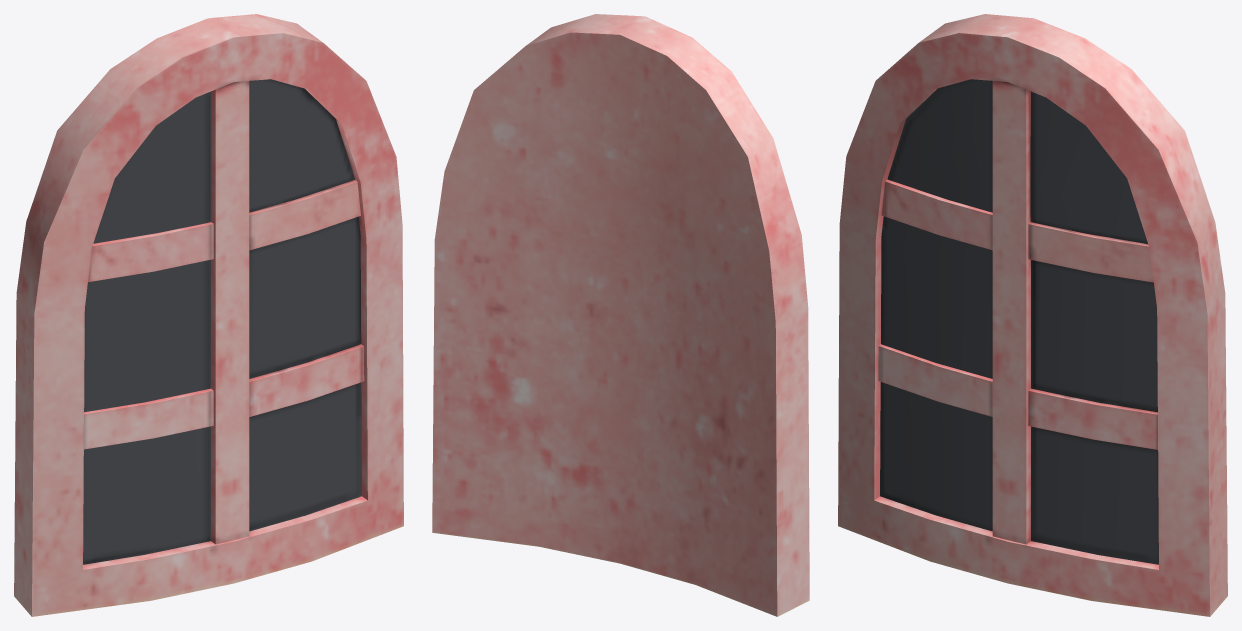
The model's file is sb_obj_outdoor024_PrincessCastle01_window01.fbx.
The picture shows the model from 3 angles, left to right: view 1: azimuth 30°, elevation 25°; view 2: azimuth 150°, elevation 25°; view 3: azimuth 330°, elevation 25°; orthographic projection. The views are drawn at different scales.
Parts seen in each view (by area): view 1: sb_obj_outdoor024_PrincessCastle01_window01; view 2: sb_obj_outdoor024_PrincessCastle01_window01; view 3: sb_obj_outdoor024_PrincessCastle01_window01.
Boxes of the visible parts, <box> form: sb_obj_outdoor024_PrincessCastle01_window01: <box>14,14,403,616</box>; sb_obj_outdoor024_PrincessCastle01_window01: <box>432,14,809,616</box>; sb_obj_outdoor024_PrincessCastle01_window01: <box>838,14,1227,616</box>.
Bounding box in the file's own units: 1.11 × 1.56 × 0.2166.
